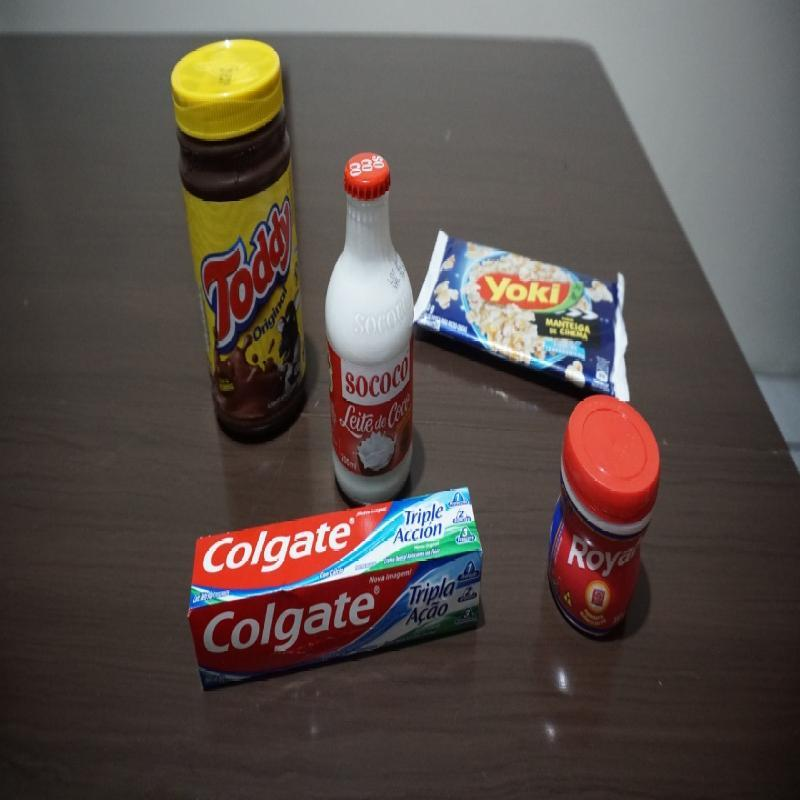Chocolate Powder: (168, 36, 311, 450)
Coconut Milk: (322, 148, 419, 508)
Popcorn: (409, 226, 633, 411)
Toothpaste: (184, 483, 484, 691)
Yeast: (545, 393, 662, 650)
